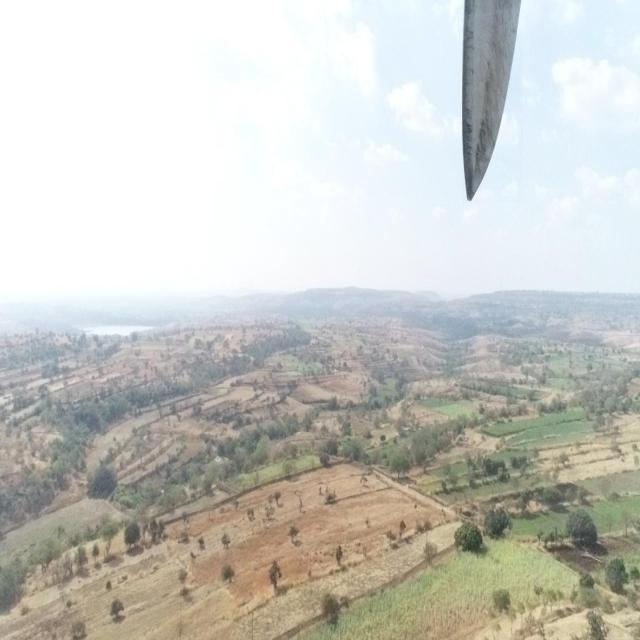Dirt: (461, 0, 522, 199)
